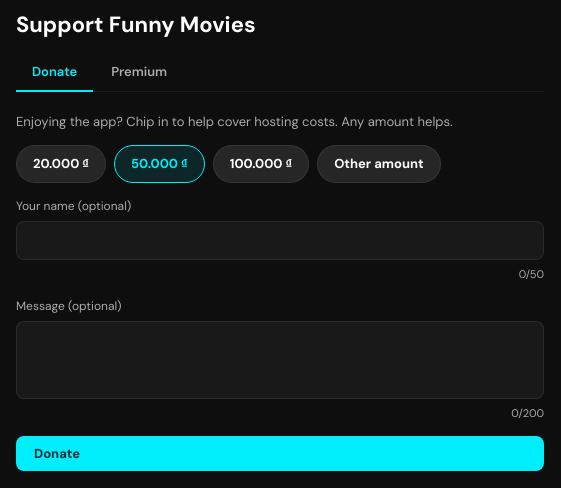
Test: DonatePage donate flow › shows the expired message and stops polling when EXPIRED
Click the button "Donate" at coordinates (57, 453), box [16,436,544,471]
Wait 10000 ms
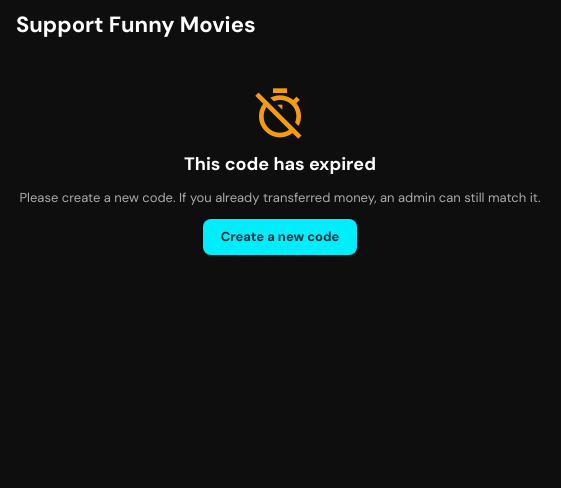
Now the heading "This code has expired" is shown, box [184,154,376,176]
Now the button "Create a new code" is shown, box [203,220,357,255]
